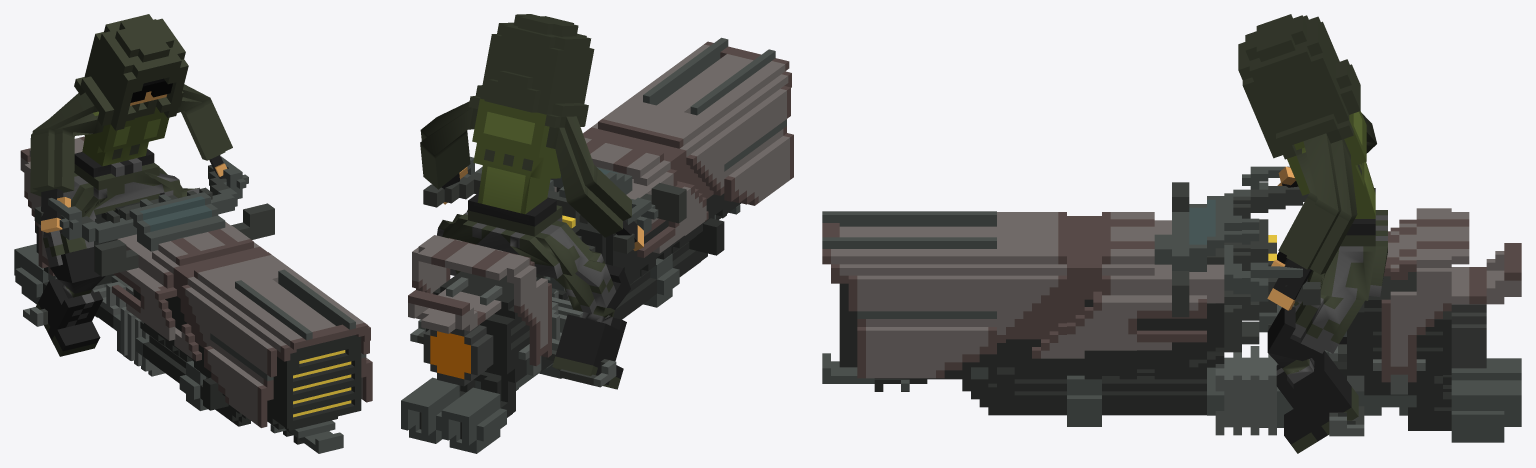
Rendered from OnTracer.obj.
3 renders of one model, left to right at view 1: azimuth 30°, elevation 25°; view 2: azimuth 150°, elevation 25°; view 3: azimuth 270°, elevation 25°, orthographic. The views are drawn at different scales.
Parts seen in each view (by area): view 1: Tracer_Tracer_palette.009, Character-0.006_Character-0.006_palette.010; view 2: Tracer_Tracer_palette.009, Character-0.006_Character-0.006_palette.010; view 3: Tracer_Tracer_palette.009, Character-0.006_Character-0.006_palette.010.
Boxes of the visible parts, x1,y1,x2,y2 form: Tracer_Tracer_palette.009: (14, 136, 372, 453); Character-0.006_Character-0.006_palette.010: (30, 14, 232, 356); Tracer_Tracer_palette.009: (401, 37, 793, 453); Character-0.006_Character-0.006_palette.010: (420, 14, 643, 389); Tracer_Tracer_palette.009: (822, 166, 1521, 442); Character-0.006_Character-0.006_palette.010: (1238, 14, 1387, 453).
Bounding box in the file's own units: 4.5 × 7.21 × 11.41.
2 materials, 2 textured.
